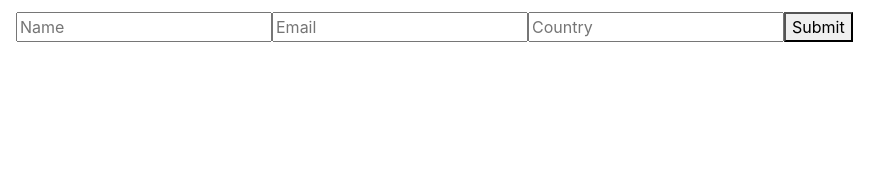
SubscribeLibForm component › should render an error when name is empty
Click the button "Submit": {"x": 818, "y": 27} [784,12,853,42]
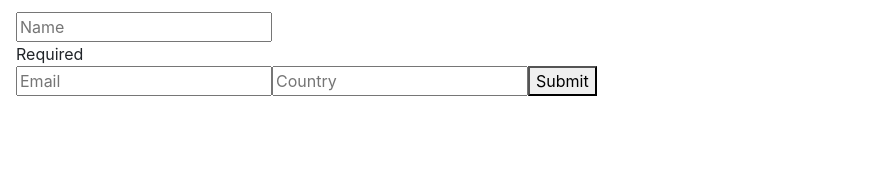
Expected: the text "Required" is shown, [16,44,83,64]
